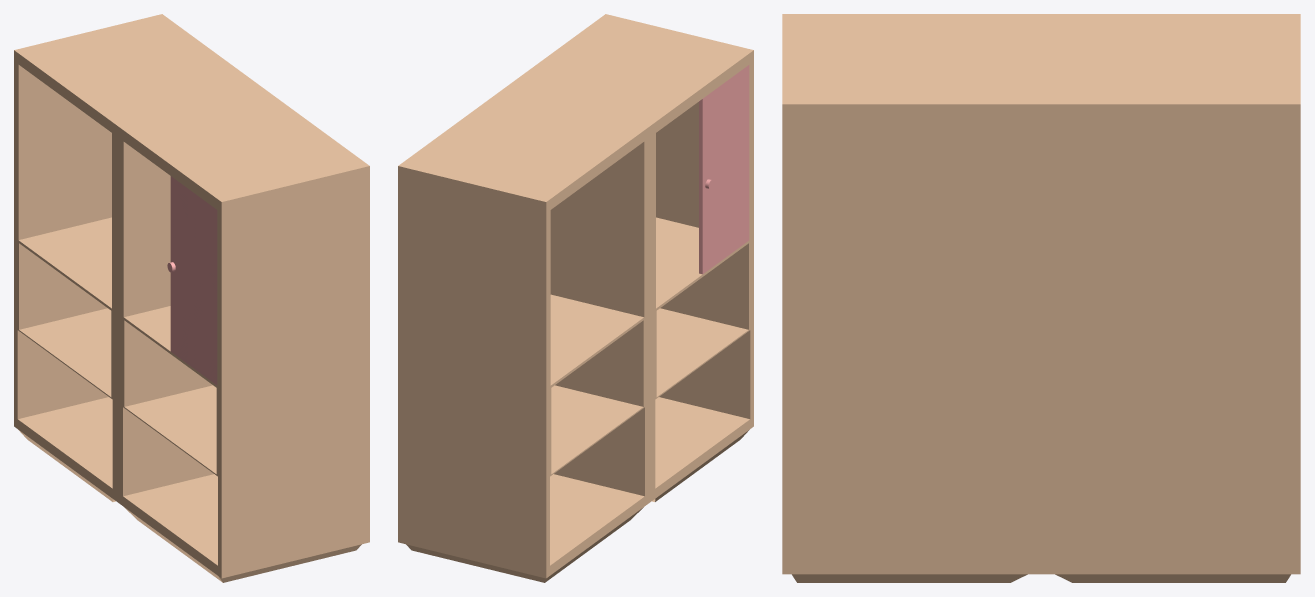
The model's file is Office_Storage.fbx.
The picture shows the model from 3 angles, left to right: view 1: azimuth 30°, elevation 25°; view 2: azimuth 150°, elevation 25°; view 3: azimuth 270°, elevation 25°; orthographic projection. The views are drawn at different scales.
Parts seen in each view (by area): view 1: Office_Storage_Main, Door_1; view 2: Office_Storage_Main, Door_1; view 3: Office_Storage_Main.
Part boxes in pixels (box(x1,y1,x2,y2)): Office_Storage_Main: box(14, 14, 369, 582); Door_1: box(167, 176, 217, 385); Office_Storage_Main: box(398, 14, 753, 582); Door_1: box(699, 65, 749, 274); Office_Storage_Main: box(782, 14, 1300, 582).
Size of the model in its own units: 33.17 by 80.31 by 78.09.
